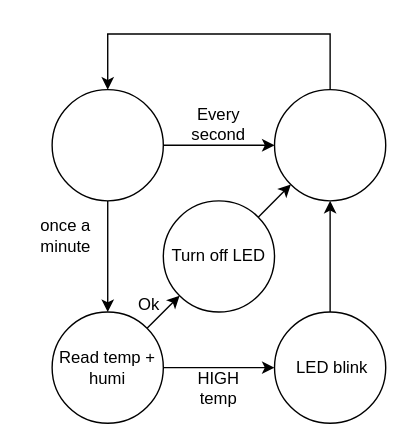
The diagram is 410 pixels wide and 448 high, and some of its shapes have lost their labels. Each missing label, with the box of its shape:
Display Time +temp and humi: (273, 88, 386, 201)
Read time: (51, 88, 163, 201)
